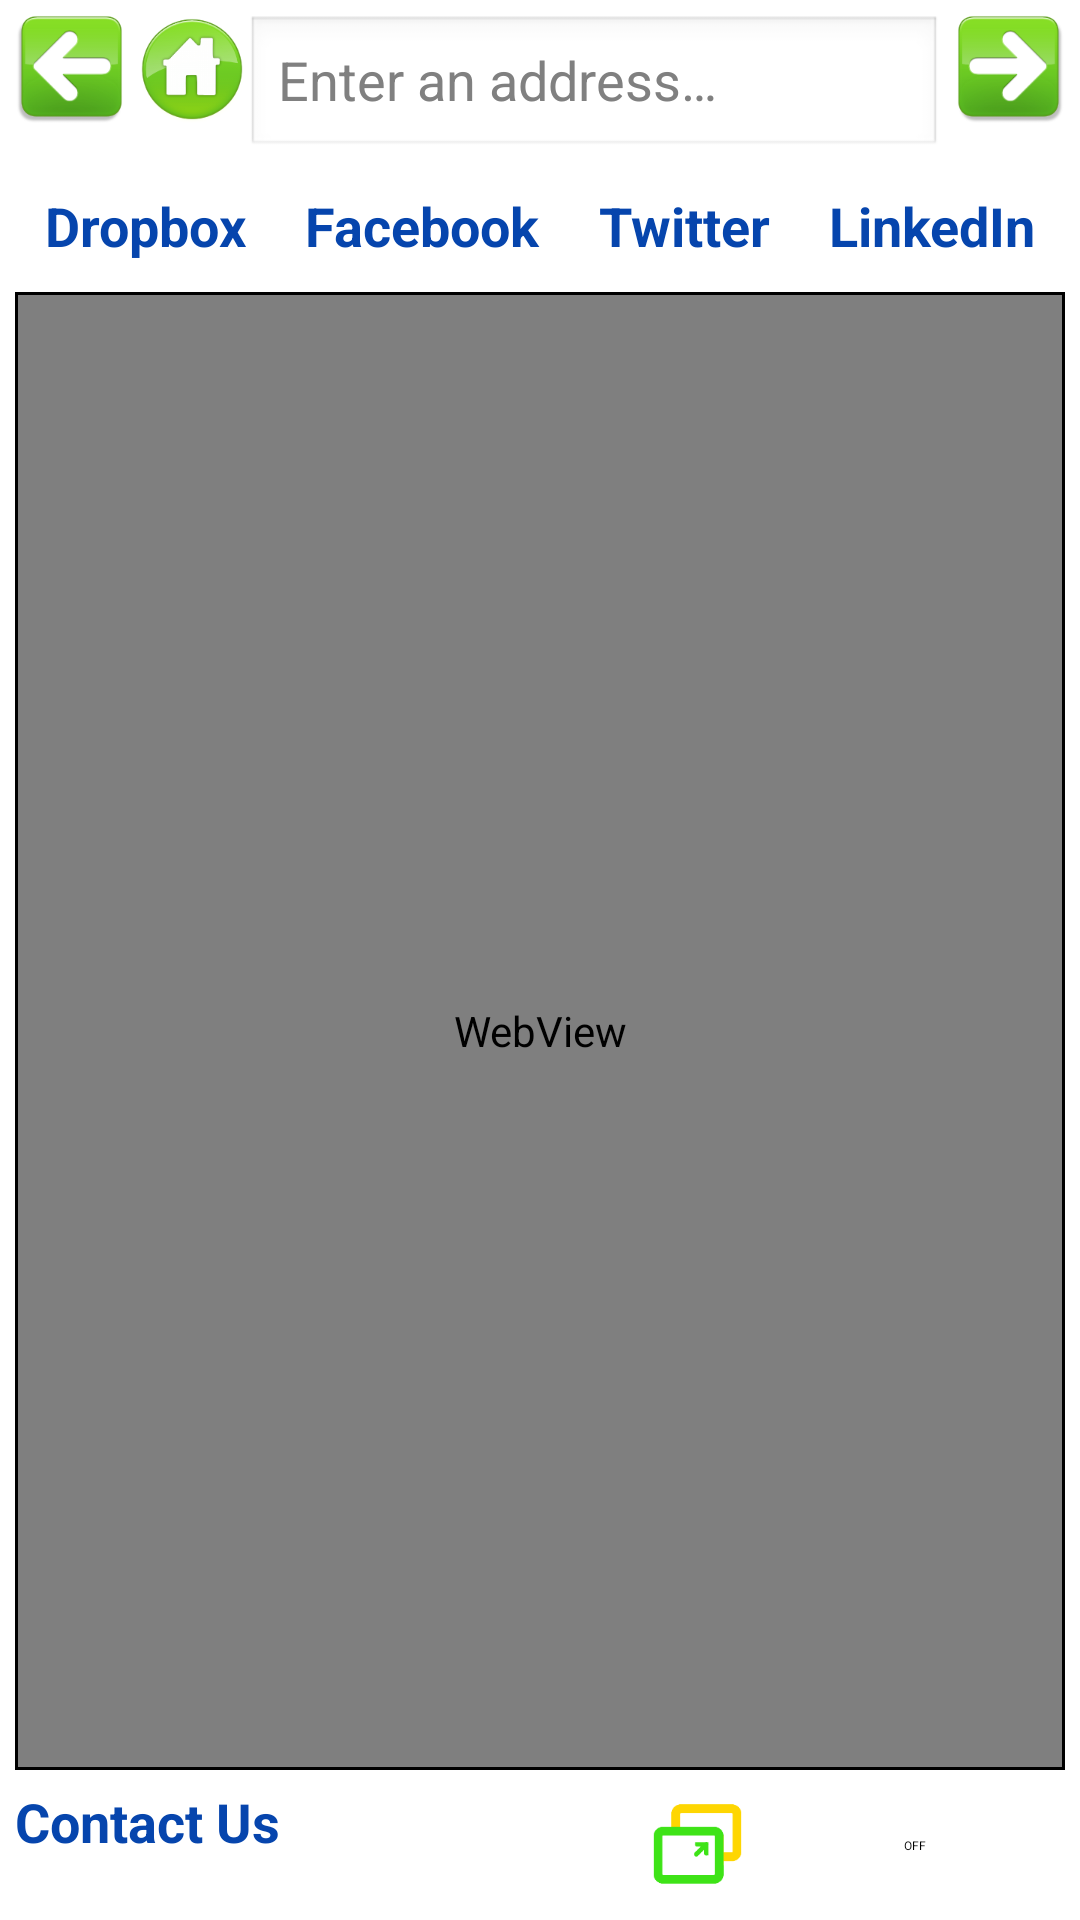

Named icons in this screenshot (1080×1920) and their centers, (x,y):
home: (192,69)
left: (70,68)
right: (1009,68)
